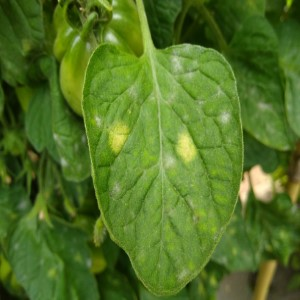oidio: (171, 50, 184, 74), (161, 154, 174, 169), (218, 110, 232, 123), (112, 183, 121, 199), (91, 115, 102, 126)
